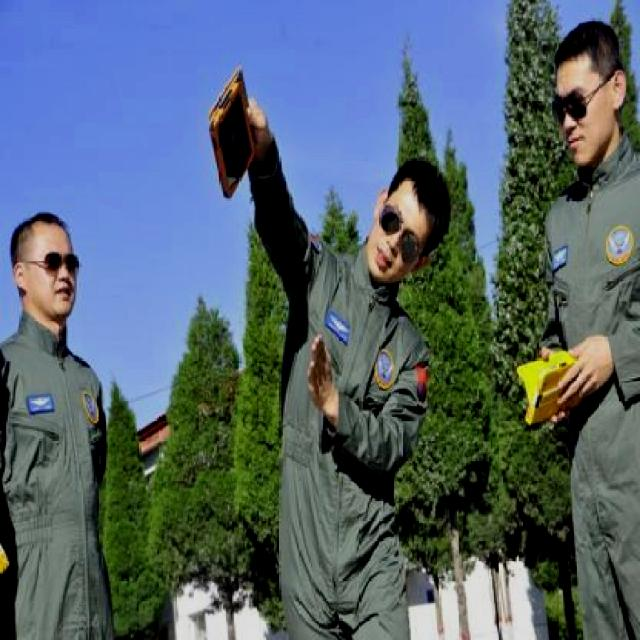face_nomask: (551, 55, 615, 160), (358, 188, 428, 278), (17, 236, 85, 322)
glasses: (377, 203, 428, 269), (548, 87, 595, 128), (39, 251, 86, 277)
hand_noglove: (558, 332, 617, 408), (306, 334, 340, 421), (243, 97, 271, 165)
head_nohelmet: (540, 12, 609, 80), (399, 149, 463, 220), (9, 202, 92, 244)
person: (228, 97, 469, 640), (531, 21, 639, 640), (0, 189, 125, 640)
